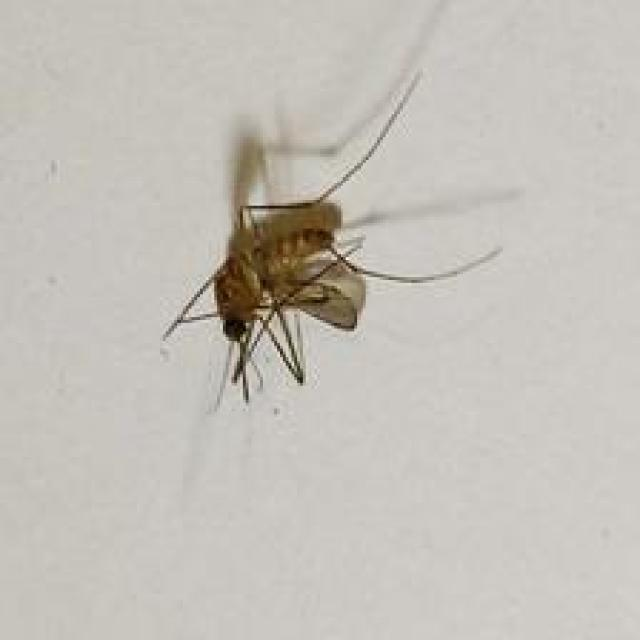Culex: (162, 69, 504, 412)
